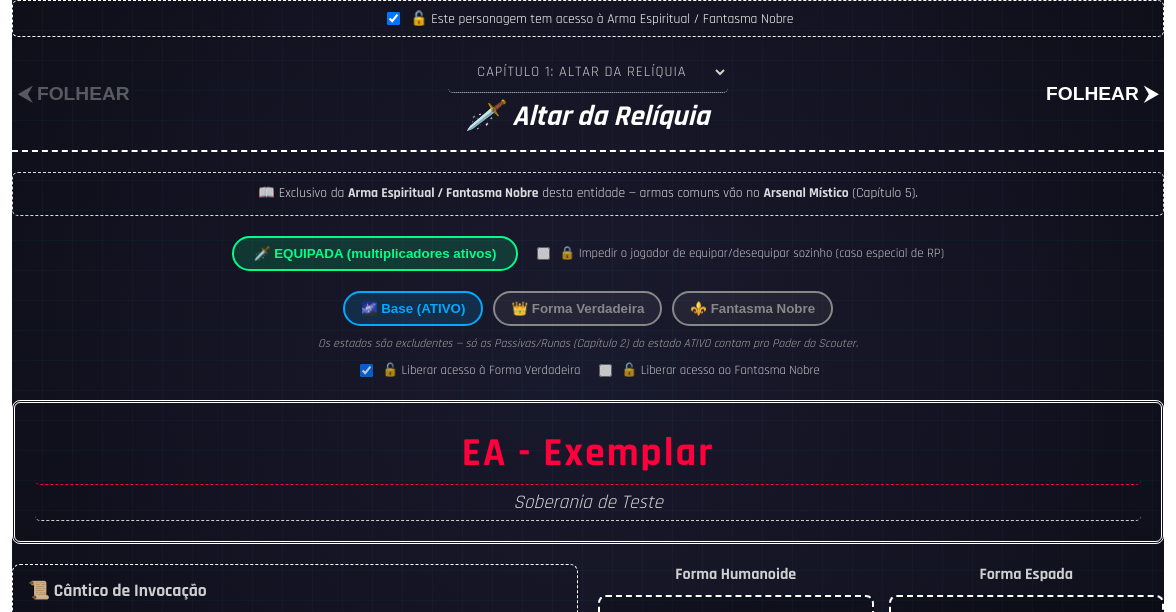
Scenario: RelicarioPanel — Capítulos 1-4 (Arma Espiritual) ficam bloqueados para quem NÃO é Mestre/Co-Mestre › Capítulo 3 (Formas Base): isMestre=true mostra os botões de criar/destruir/sub-configurar e habilita campos + uploads
Select "CAPÍTULO 3: FORMAS BASE" in the dropdown at {"x": 588, "y": 72}, box [448,52,728,93]
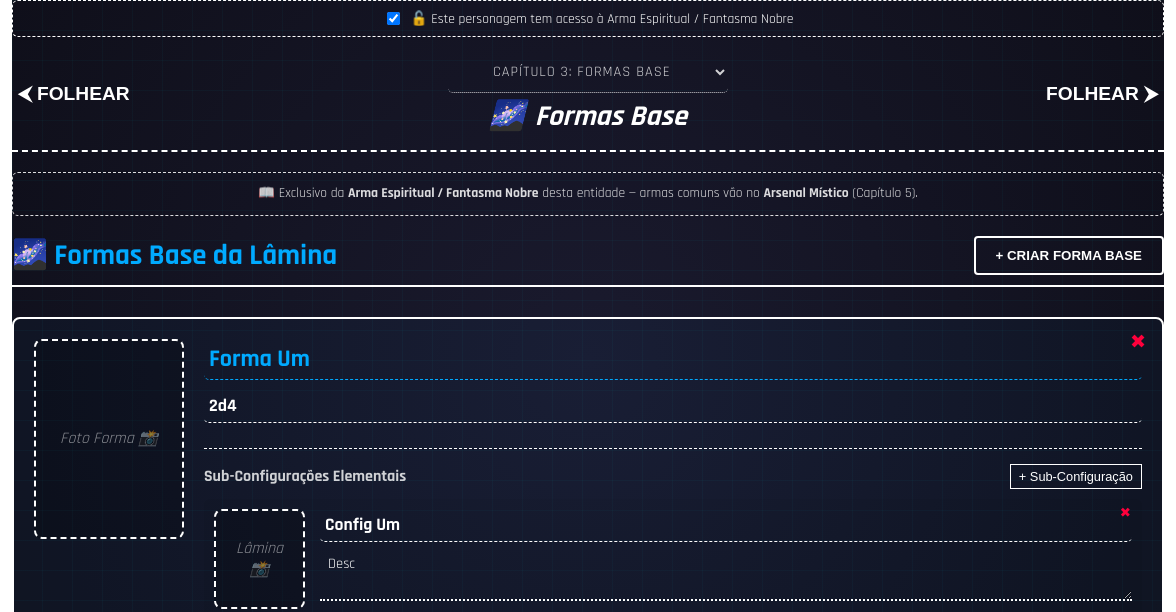
Check: the number of buttons "✖" is 2, box [1124,329,1152,354]; [1114,504,1137,521]
Check: the button "+ CRIAR FORMA BASE" is shown, box [974,236,1164,275]
Check: the button "+ Sub-Configuração" is shown, box [1010,464,1142,489]
